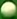white: (0, 0, 17, 19)
